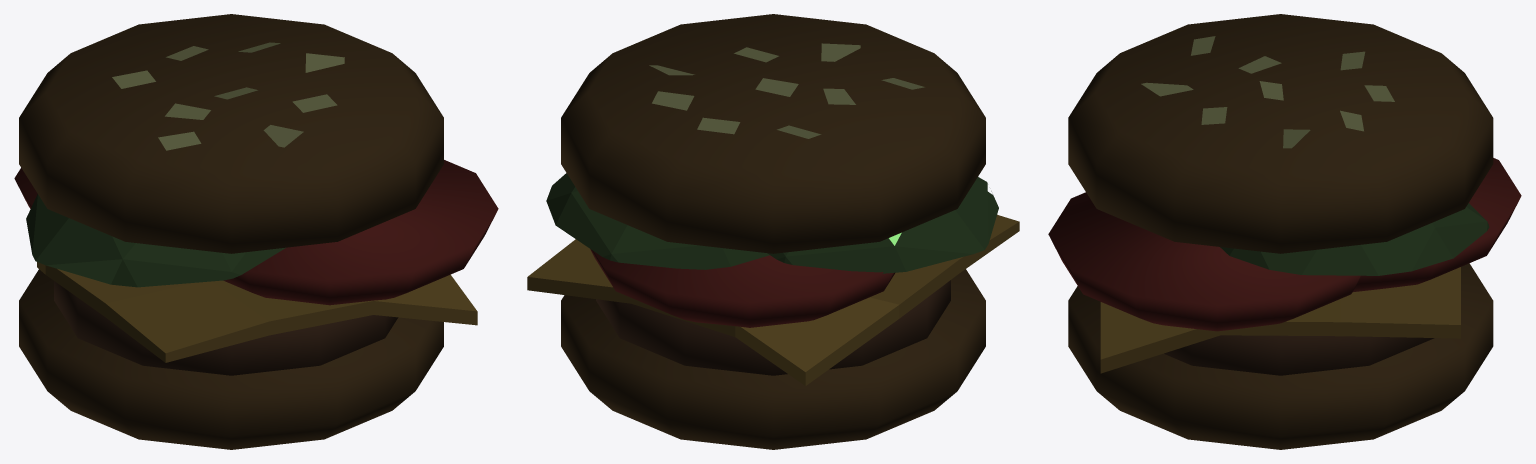
Rendered from Burger(Tomato Plus Lettuce) Burnt.glb.
3 renders of one model, left to right at view 1: azimuth 30°, elevation 25°; view 2: azimuth 150°, elevation 25°; view 3: azimuth 270°, elevation 25°, orthographic.
Visible parts, largest first — view 1: Cylinder.025; view 2: Cylinder.025; view 3: Cylinder.025.
Boxes of the visible parts, x1=… form: Cylinder.025: x1=14, y1=14, x2=498, y2=449; Cylinder.025: x1=527, y1=14, x2=1019, y2=449; Cylinder.025: x1=1048, y1=14, x2=1521, y2=449.
Size of the model in its own units: 0.5335 by 0.3494 by 0.5252.
